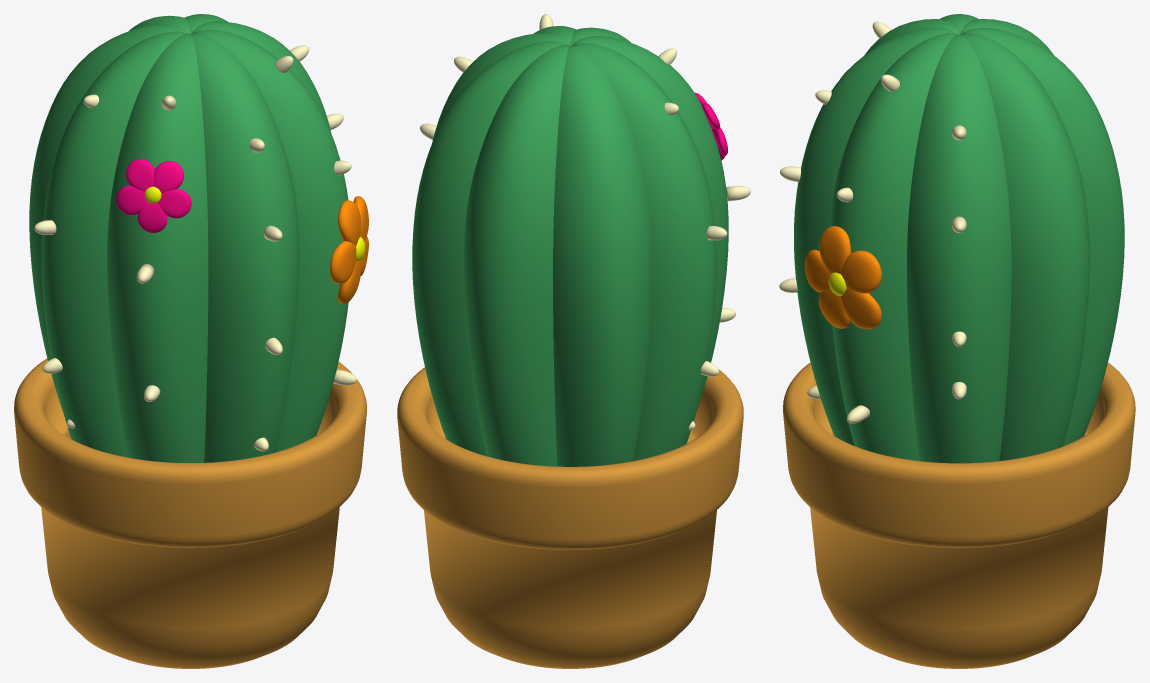
File: cactus.glb
The picture shows the model from 3 angles, left to right: view 1: azimuth 30°, elevation 25°; view 2: azimuth 150°, elevation 25°; view 3: azimuth 270°, elevation 25°; orthographic projection.
Visible parts, largest first — view 1: cactus, pot, Sphere, Sphere.010, Sphere.001; view 2: cactus, pot, Sphere.010, Sphere; view 3: cactus, pot, Sphere.001, Sphere.010.
Boxes of the visible parts, <box> form: cactus: <box>29,14,348,463</box>; pot: <box>14,358,366,668</box>; Sphere: <box>116,159,191,232</box>; Sphere.010: <box>34,45,356,451</box>; Sphere.001: <box>330,196,368,304</box>; cactus: <box>412,26,728,466</box>; pot: <box>397,367,743,668</box>; Sphere.010: <box>420,14,750,430</box>; Sphere: <box>695,92,727,160</box>; cactus: <box>794,14,1124,463</box>; pot: <box>783,362,1135,668</box>; Sphere.001: <box>804,226,881,329</box>; Sphere.010: <box>779,21,966,423</box>.
Bounding box in the file's own units: 2.44 × 4.49 × 2.42.
